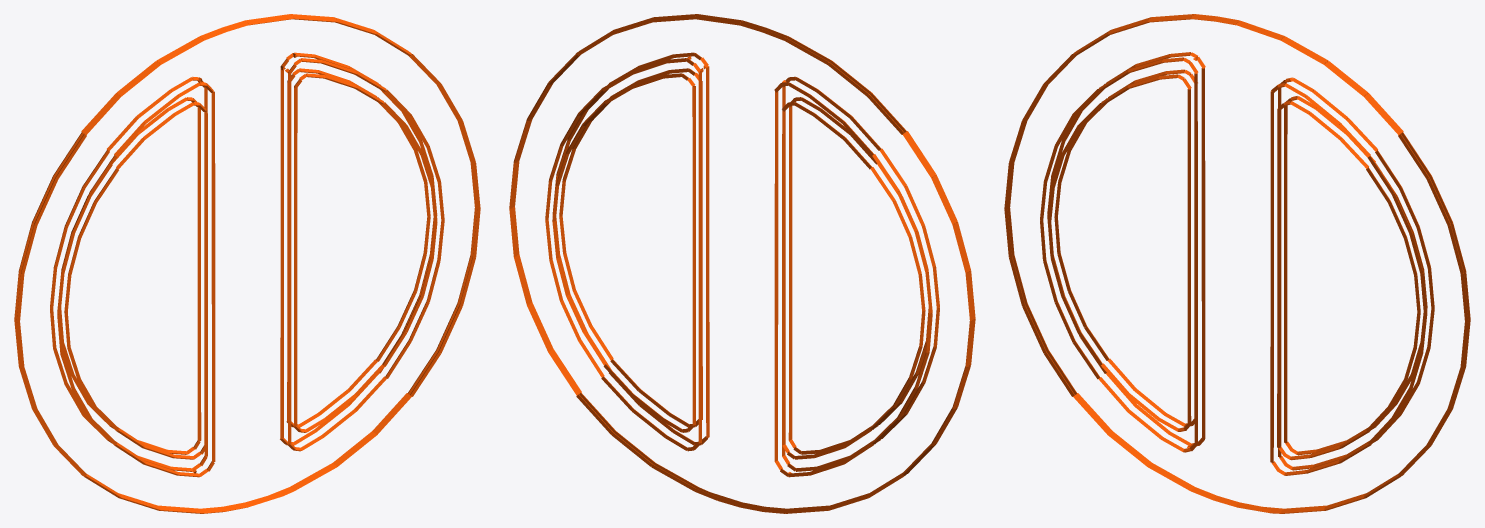
File: VIS_INITv3.obj
The picture shows the model from 3 angles, left to right: view 1: azimuth 30°, elevation 25°; view 2: azimuth 150°, elevation 25°; view 3: azimuth 330°, elevation 25°; orthographic projection.
Bounding box in the file's own units: 556 × 556 × 20.15.
